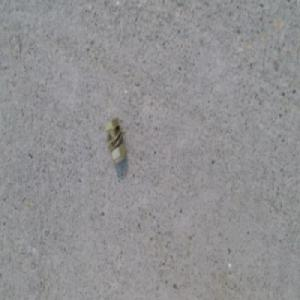BoltNutSet: (104, 120, 125, 165)
